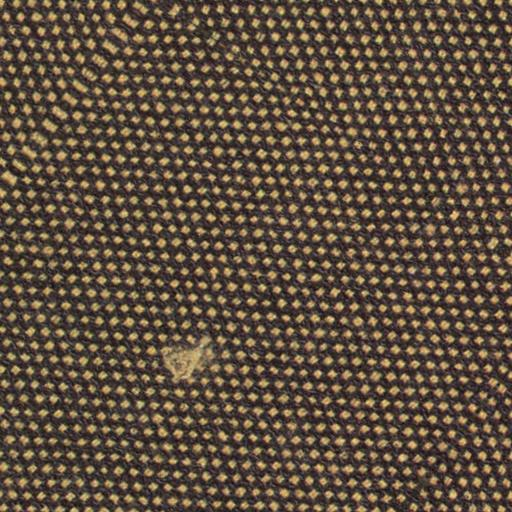knot: (154, 325, 213, 378)
